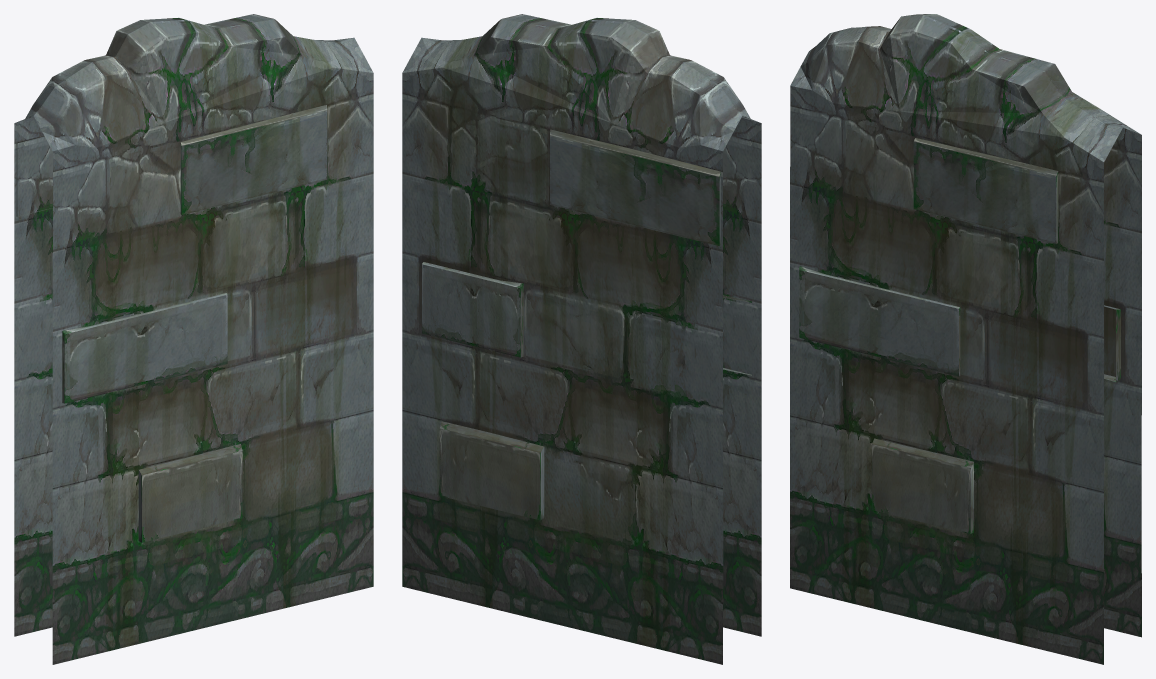
Rendered from stemple_wall_straight_02.fbx.
3 views of the same model, side by side, from view 1: azimuth 30°, elevation 25°; view 2: azimuth 150°, elevation 25°; view 3: azimuth 330°, elevation 25° (orthographic). The views are drawn at different scales.
Parts seen in each view (by area): view 1: obj1.020; view 2: obj1.020; view 3: obj1.020.
Part boxes in pixels (x1,y1,x2,y2): obj1.020: (14, 14, 373, 664); obj1.020: (402, 14, 761, 664); obj1.020: (790, 14, 1141, 664).
Bounding box in the file's own units: 4 × 7.15 × 0.9573.
